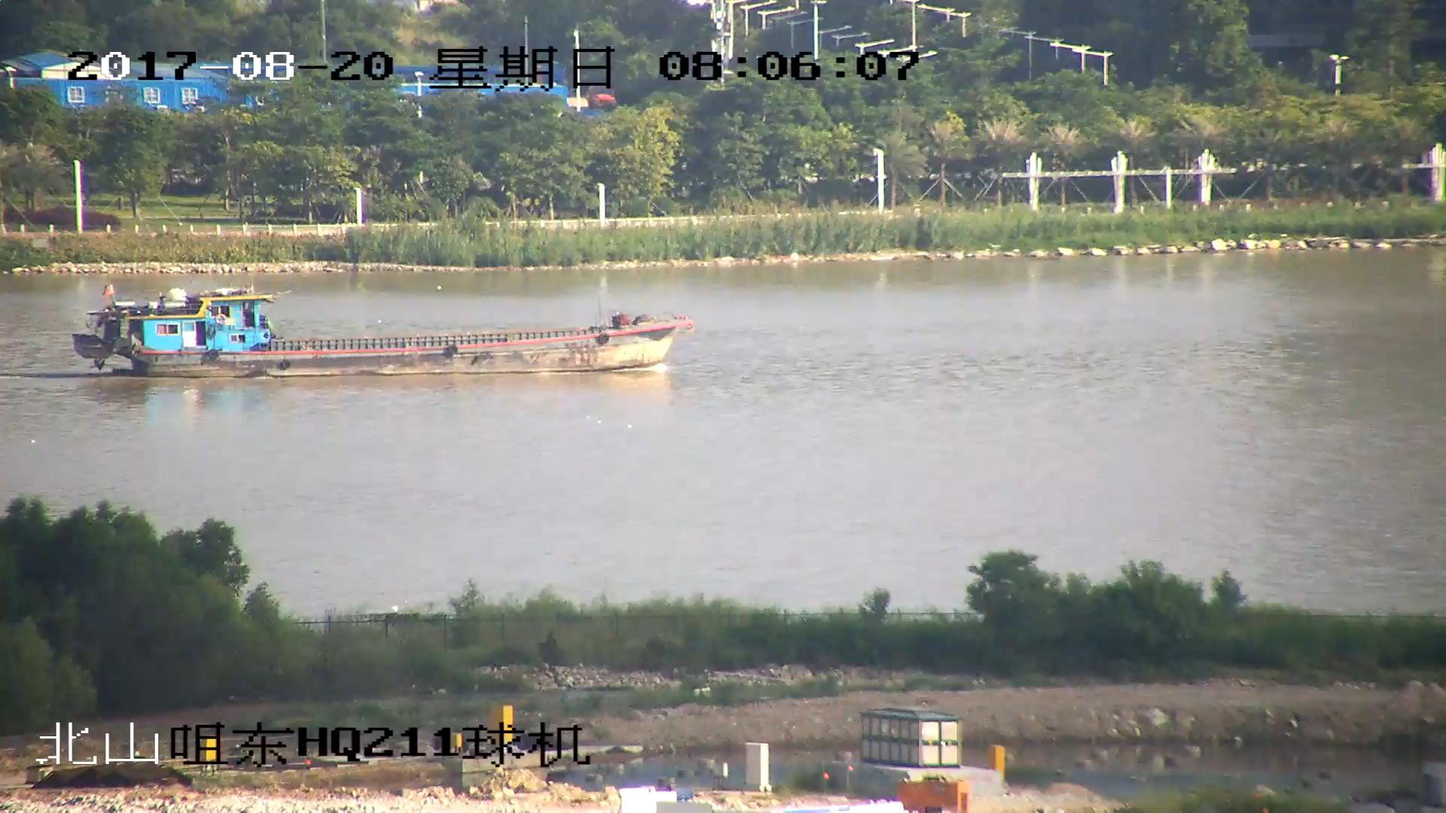fishing boat: (70, 283, 692, 379)
